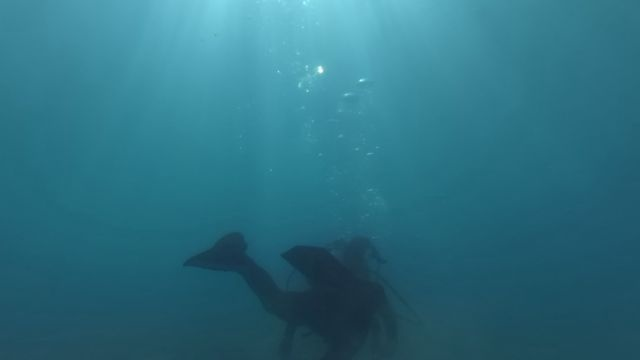Diver: (184, 217, 406, 355)
